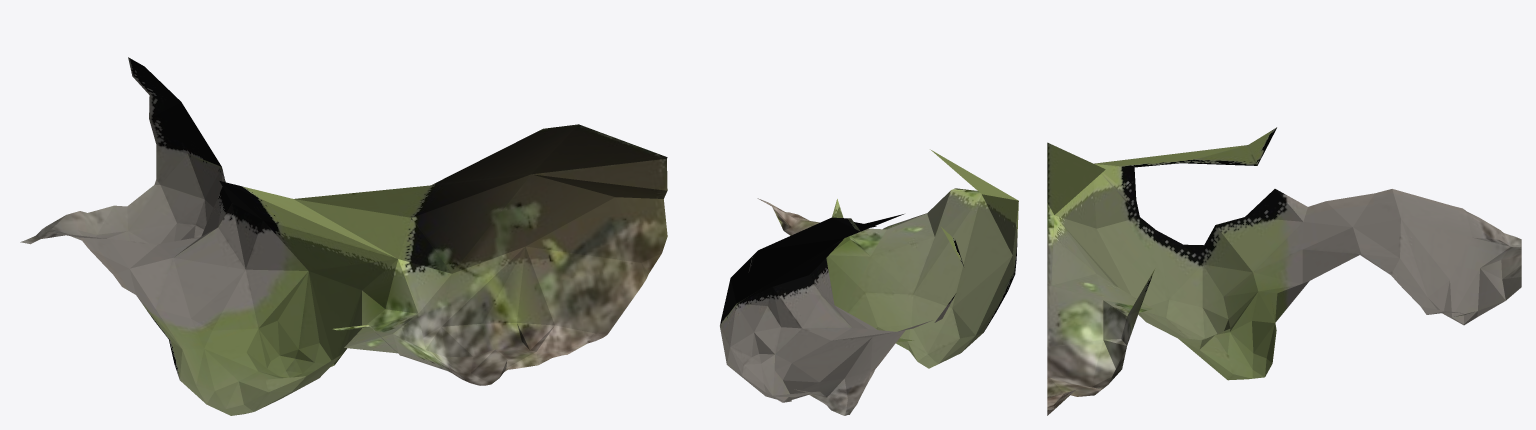
3 renders of one model, left to right at view 1: azimuth 30°, elevation 25°; view 2: azimuth 150°, elevation 25°; view 3: azimuth 270°, elevation 25°, orthographic. The views are drawn at different scales.
Size of the model in its own units: 5.9 by 4.08 by 5.9.
4 materials, 4 textured.
